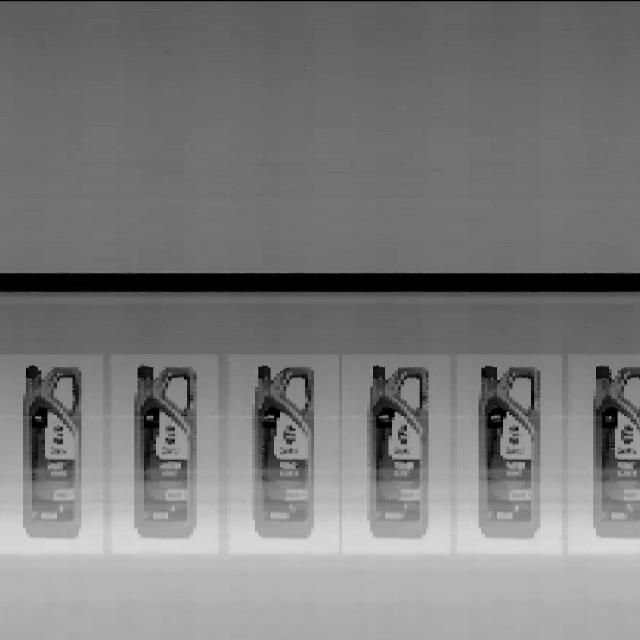motor_oil: (473, 365, 544, 541), (131, 361, 200, 541), (364, 360, 432, 542), (250, 360, 317, 544), (20, 360, 85, 542)
